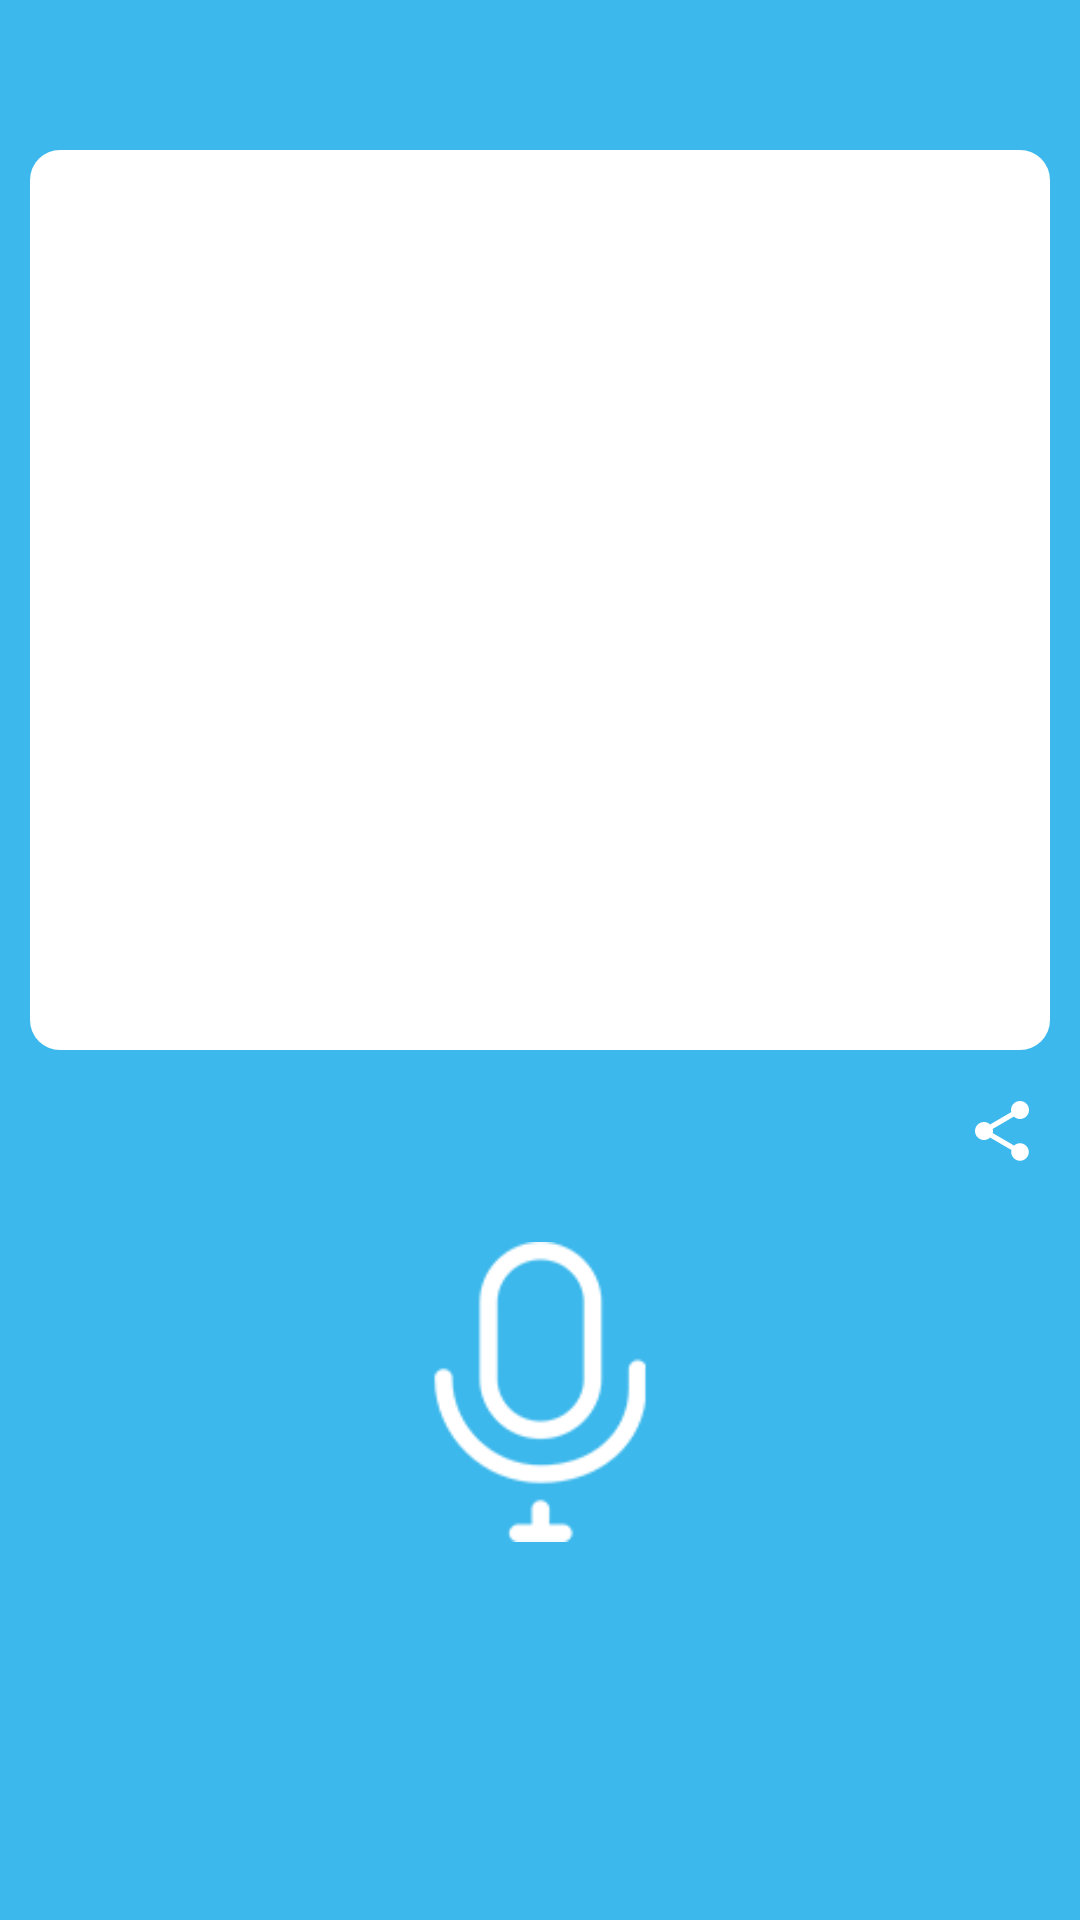

Where icons sit on this 1080x1920 app screen, as (x1, y1, x2, y2):
micro: (434, 1242, 646, 1542)
share: (975, 1101, 1029, 1161)
